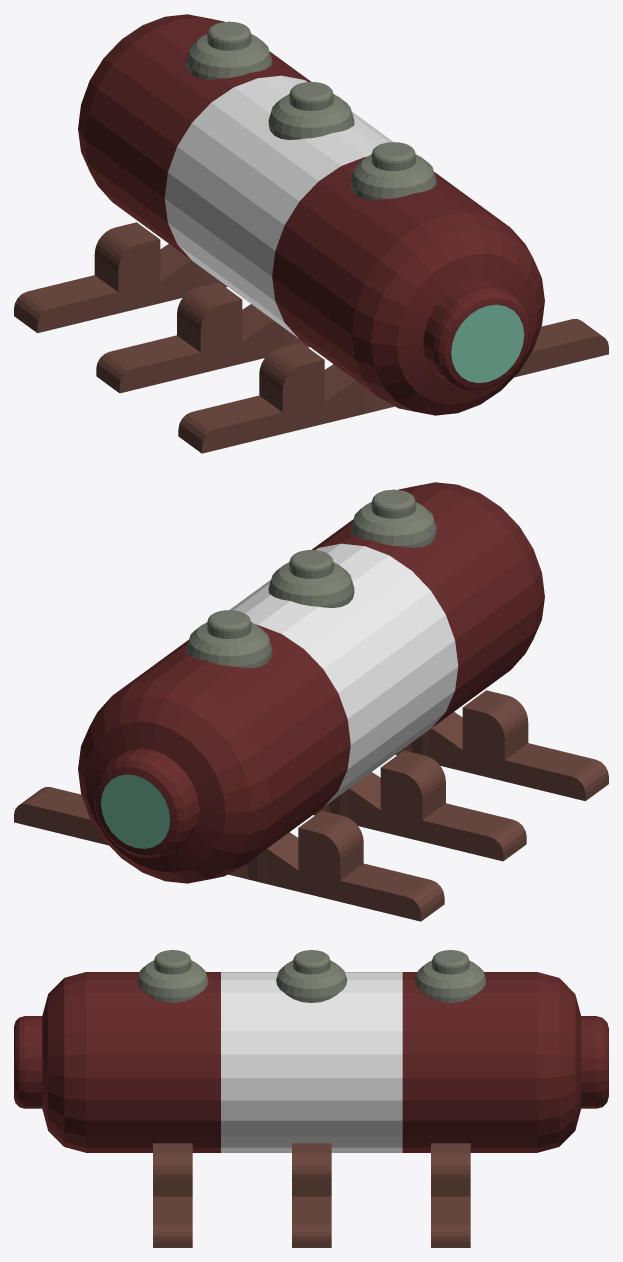
File: Industrial_Distillery_Keg_02.fbx
The picture shows the model from 3 angles, top to bottom: view 1: azimuth 30°, elevation 25°; view 2: azimuth 150°, elevation 25°; view 3: azimuth 270°, elevation 25°; orthographic projection. The views are drawn at different scales.
Parts seen in each view (by area): view 1: Distilling_Keg, Base3, Base2, Base1; view 2: Distilling_Keg, Base2, Base3, Base1; view 3: Distilling_Keg, Base2, Base1, Base3.
Boxes of the visible parts, x1,y1,x2,y2 form: Distilling_Keg: (78, 14, 544, 415); Base3: (178, 319, 608, 453); Base2: (14, 222, 227, 333); Base1: (96, 282, 309, 393); Distilling_Keg: (78, 482, 544, 883); Base2: (14, 787, 444, 921); Base3: (395, 690, 608, 801); Base1: (313, 750, 526, 861); Distilling_Keg: (14, 950, 608, 1152); Base2: (431, 1143, 470, 1247); Base1: (292, 1143, 331, 1247); Base3: (153, 1143, 192, 1247).
Size of the model in its own units: 2000 by 1154 by 2997.
